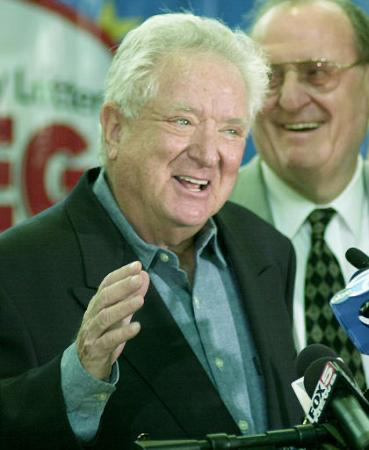Face: (131, 83, 254, 234), (239, 39, 359, 177)
